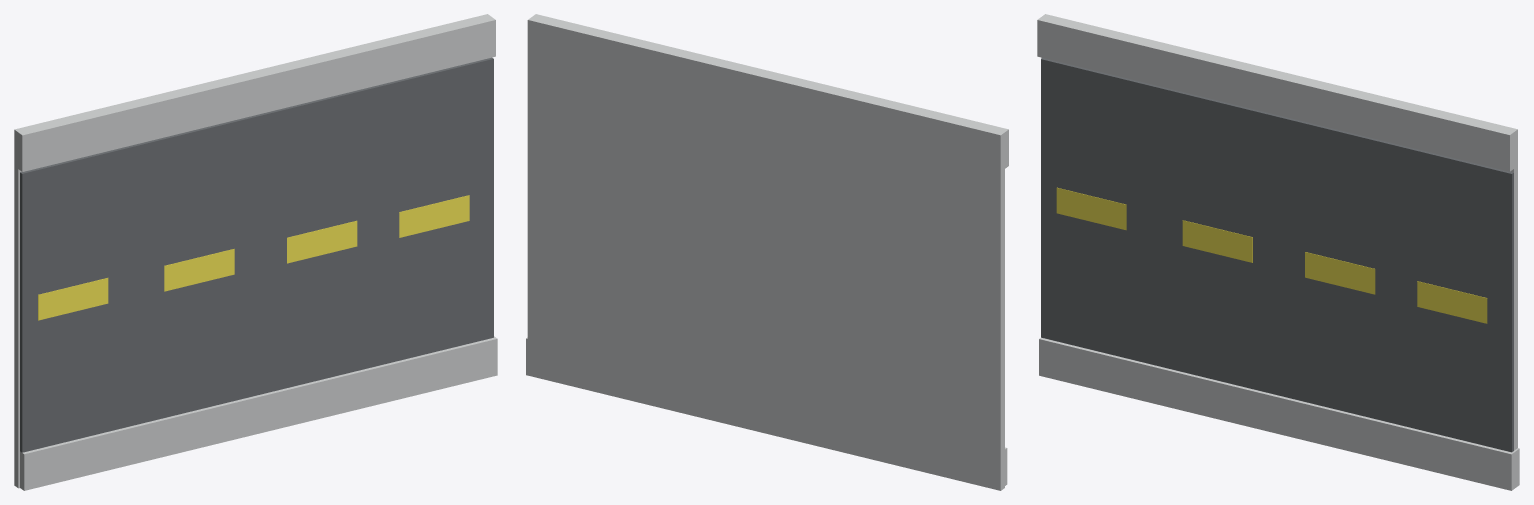
The model's file is road-tile-by-username12-koM4X3WroD.glb.
The picture shows the model from 3 angles, left to right: view 1: azimuth 30°, elevation 25°; view 2: azimuth 150°, elevation 25°; view 3: azimuth 330°, elevation 25°; orthographic projection.
Parts seen in each view (by area): view 1: group_0_2829873, group_0_14541540, group_0_16768282; view 2: group_0_14541540; view 3: group_0_2829873, group_0_14541540, group_0_16768282.
Part boxes in pixels (x1,y1,x2,y2): group_0_2829873: [20, 57, 493, 452]; group_0_14541540: [14, 14, 497, 490]; group_0_16768282: [38, 195, 469, 320]; group_0_14541540: [526, 14, 1008, 490]; group_0_2829873: [1041, 58, 1513, 452]; group_0_14541540: [1037, 14, 1519, 490]; group_0_16768282: [1056, 187, 1487, 323].
Bounding box in the file's own units: 136 × 97 × 4.
